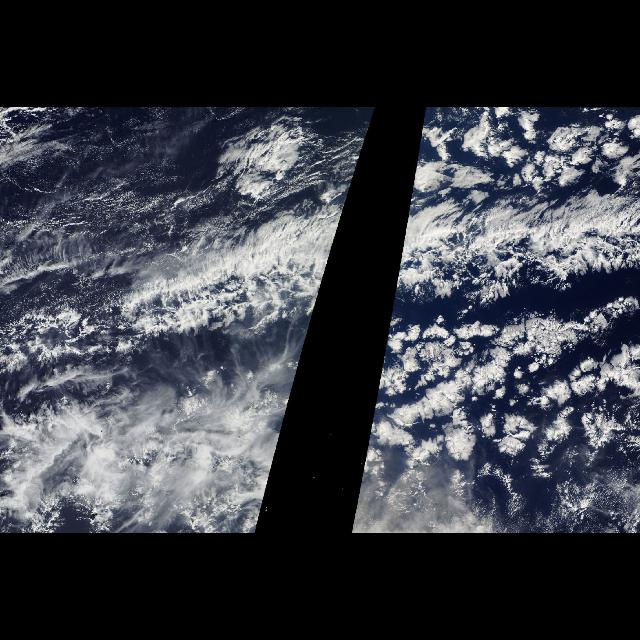Fish: (1, 180, 353, 320), (388, 180, 640, 320)
Flower: (366, 308, 640, 520), (408, 109, 636, 215), (224, 109, 376, 215)
Sugar: (2, 109, 246, 294)
